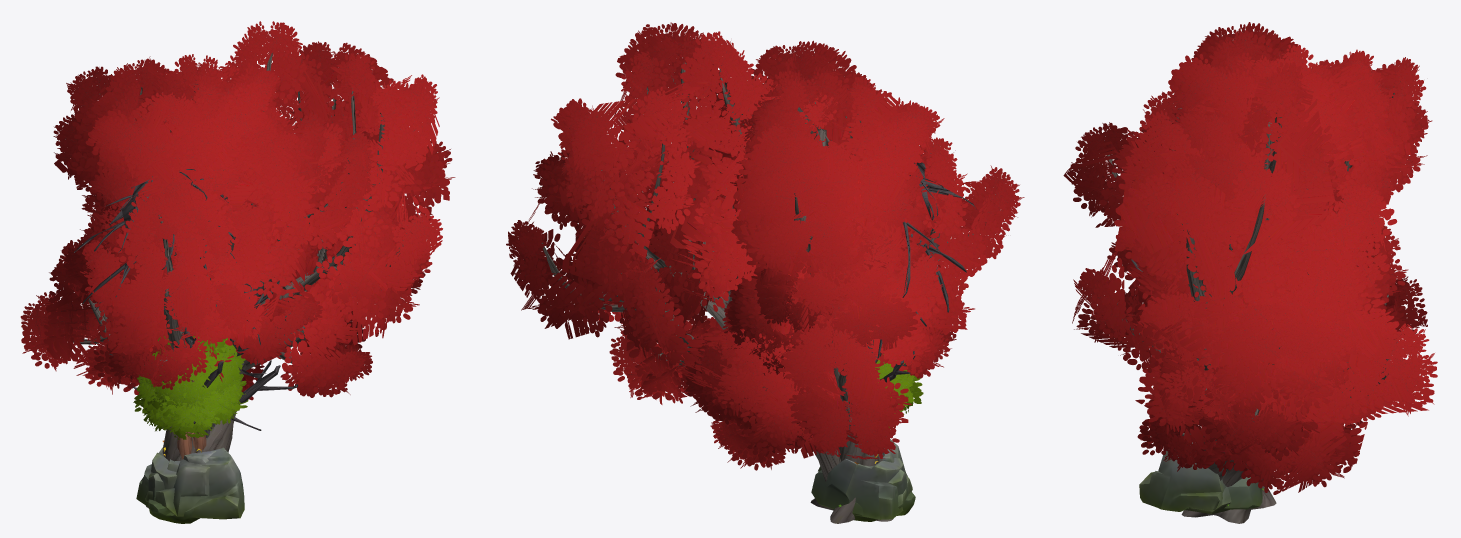
File: naturaleza.glb
3 views of the same model, side by side, from view 1: azimuth 30°, elevation 25°; view 2: azimuth 150°, elevation 25°; view 3: azimuth 270°, elevation 25° (orthographic). The views are drawn at different scales.
Parts seen in each view (by area): view 1: TwistedTree_3, TwistedTree_1, TwistedTree_5, TwistedTree_3__lejos, TwistedTree_1__lejos, TwistedTree_5__lejos, Rock_Medium_3, Rock_Medium_1, CommonTree_2, CommonTree_3, CommonTree_1, DeadTree_1 (+6 smaller); view 2: TwistedTree_1, TwistedTree_3, TwistedTree_1__lejos, TwistedTree_5, TwistedTree_3__lejos, TwistedTree_5__lejos, Rock_Medium_2, DeadTree_3, Rock_Medium_3; view 3: TwistedTree_1, TwistedTree_1__lejos, TwistedTree_3, TwistedTree_5, TwistedTree_3__lejos, TwistedTree_5__lejos, Rock_Medium_3, Rock_Medium_2.
Part boxes in pixels (<box>): TwistedTree_3: <box>20,54,377,460</box>; TwistedTree_1: <box>107,21,455,508</box>; TwistedTree_5: <box>60,58,330,461</box>; TwistedTree_3__lejos: <box>21,60,374,459</box>; TwistedTree_1__lejos: <box>125,31,450,431</box>; TwistedTree_5__lejos: <box>62,56,327,461</box>; Rock_Medium_3: <box>148,447,244,523</box>; Rock_Medium_1: <box>145,451,215,516</box>; CommonTree_2: <box>137,335,246,450</box>; CommonTree_3: <box>144,336,245,446</box>; CommonTree_1: <box>134,344,248,434</box>; DeadTree_1: <box>109,281,297,437</box>; TwistedTree_1: <box>506,22,929,523</box>; TwistedTree_3: <box>678,40,1024,470</box>; TwistedTree_1__lejos: <box>508,24,888,521</box>; TwistedTree_5: <box>707,67,949,466</box>; TwistedTree_3__lejos: <box>692,44,1017,469</box>; TwistedTree_5__lejos: <box>708,71,944,465</box>; Rock_Medium_2: <box>811,458,903,519</box>; DeadTree_3: <box>877,153,976,358</box>; Rock_Medium_3: <box>818,452,915,515</box>; TwistedTree_1: <box>1075,62,1437,523</box>; TwistedTree_1__lejos: <box>1072,70,1434,494</box>; TwistedTree_3: <box>1069,28,1432,477</box>; TwistedTree_5: <box>1133,22,1426,311</box>; TwistedTree_3__lejos: <box>1063,39,1428,473</box>; TwistedTree_5__lejos: <box>1143,33,1422,219</box>; Rock_Medium_3: <box>1139,443,1226,511</box>; Rock_Medium_2: <box>1224,477,1262,509</box>.
Size of the model in its own units: 15.83 by 16.86 by 11.71.
Materials: 11 (11 with a texture image).
